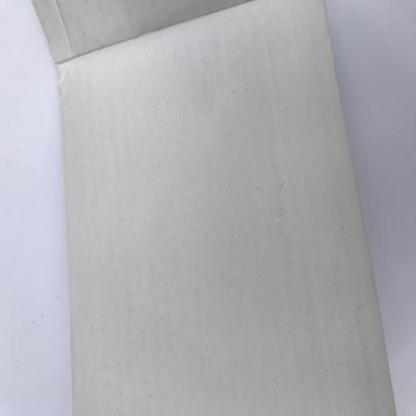Mrisq: (30, 0, 396, 415), (55, 1, 398, 415), (32, 0, 259, 61)
